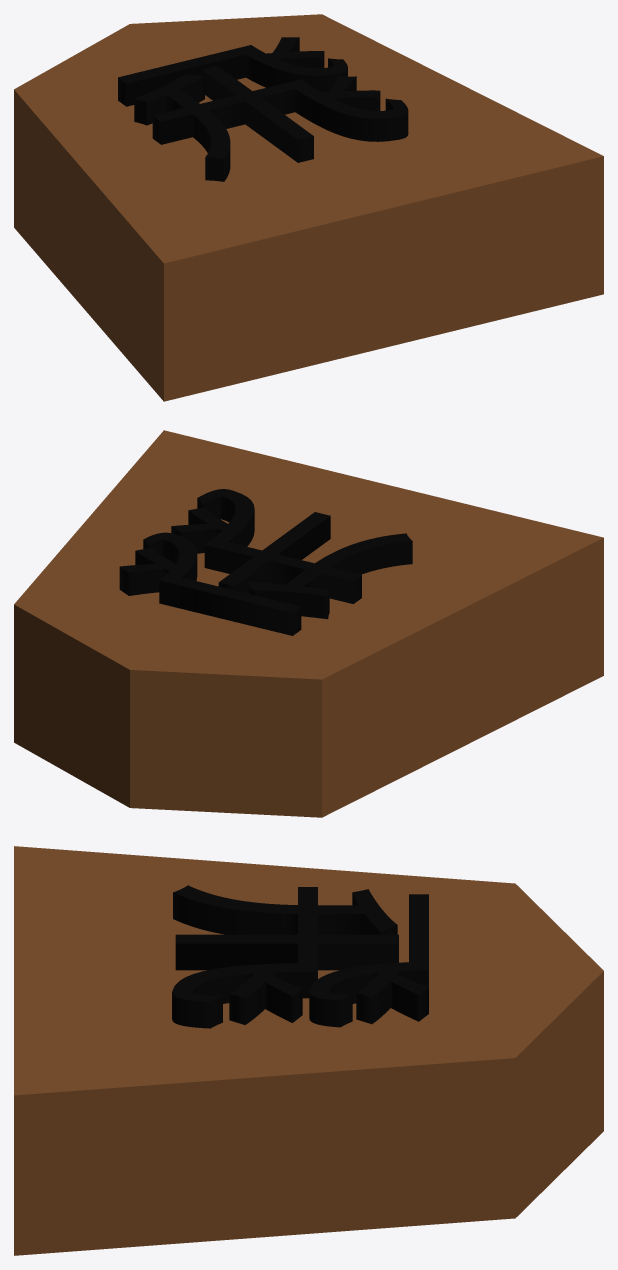
File: Hisha.fbx
3 renders of one model, top to bottom at view 1: azimuth 30°, elevation 25°; view 2: azimuth 150°, elevation 25°; view 3: azimuth 270°, elevation 25°, orthographic. The views are drawn at different scales.
Visible parts, largest first — view 1: Cube, テキスト; view 2: Cube, テキスト; view 3: Cube, テキスト.
Boxes of the visible parts, x1=… form: Cube: x1=14, y1=14, x2=603, y2=401; テキスト: x1=118, y1=37, x2=408, y2=181; Cube: x1=14, y1=430, x2=603, y2=817; テキスト: x1=119, y1=489, x2=412, y2=635; Cube: x1=14, y1=846, x2=603, y2=1255; テキスト: x1=172, y1=885, x2=428, y2=1028.
Bounding box in the file's own units: 200 × 70 × 200.
